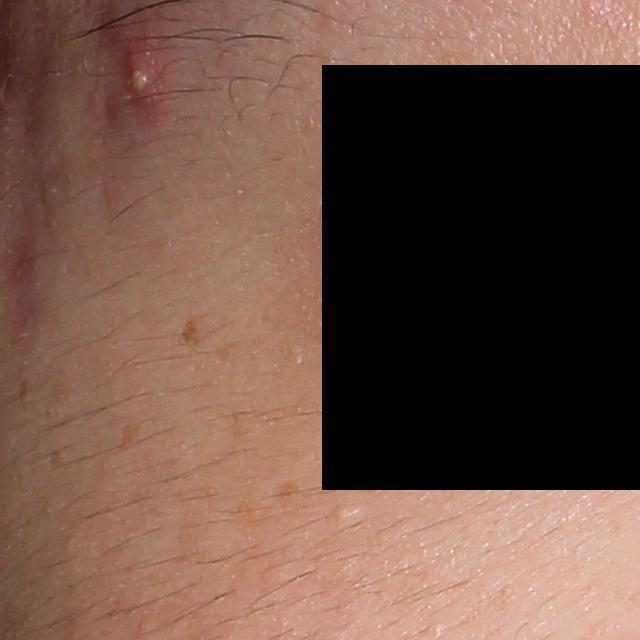melasma: (117, 418, 144, 449), (274, 477, 301, 503)
other: (332, 501, 362, 529)
pustule: (119, 61, 154, 103)
